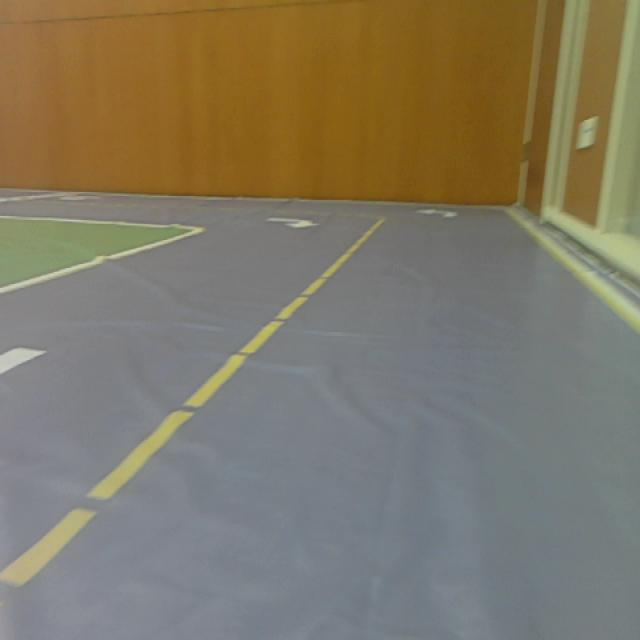left_lane: (0, 221, 385, 611)
right_lane: (507, 210, 640, 335)
